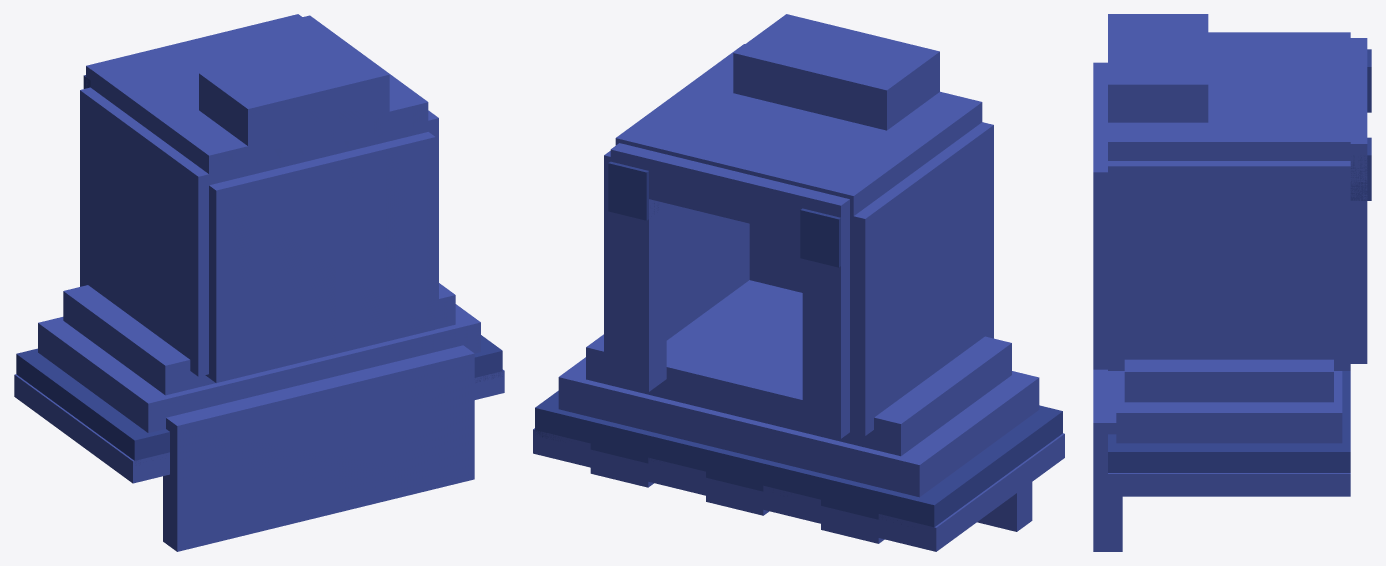
The model's file is capuz_manto.glb.
The picture shows the model from 3 angles, left to right: view 1: azimuth 30°, elevation 25°; view 2: azimuth 150°, elevation 25°; view 3: azimuth 270°, elevation 25°; orthographic projection. The views are drawn at different scales.
Visible parts, largest first — view 1: capuz_manto; view 2: capuz_manto; view 3: capuz_manto.
Part boxes in pixels (x1=…): capuz_manto: x1=14, y1=14, x2=504, y2=551; capuz_manto: x1=533, y1=14, x2=1064, y2=551; capuz_manto: x1=1093, y1=14, x2=1371, y2=551.
Bounding box in the file's own units: 1.05 × 1.13 × 0.665.
